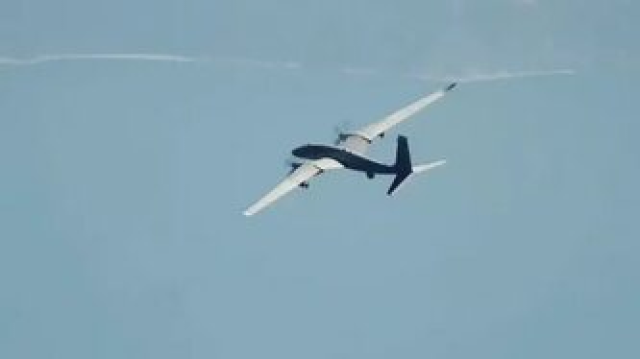military drone: (242, 81, 457, 215)
